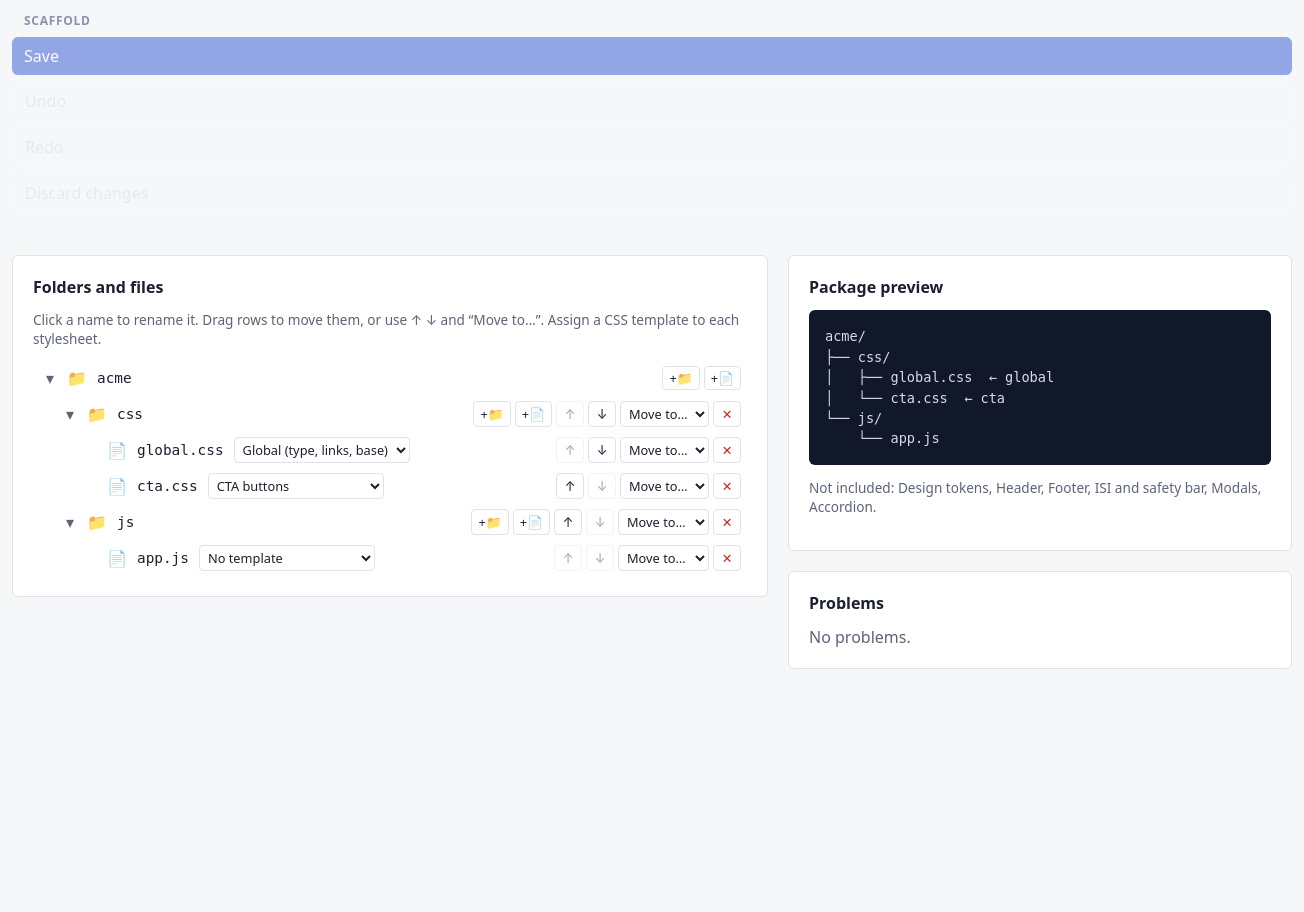
ScaffoldEditor › Escape cancels a rename
The width and height of the screenshot is (1304, 912).
Click the button with aria-label "Rename cta.css": [167, 486] box [133, 476, 202, 496]
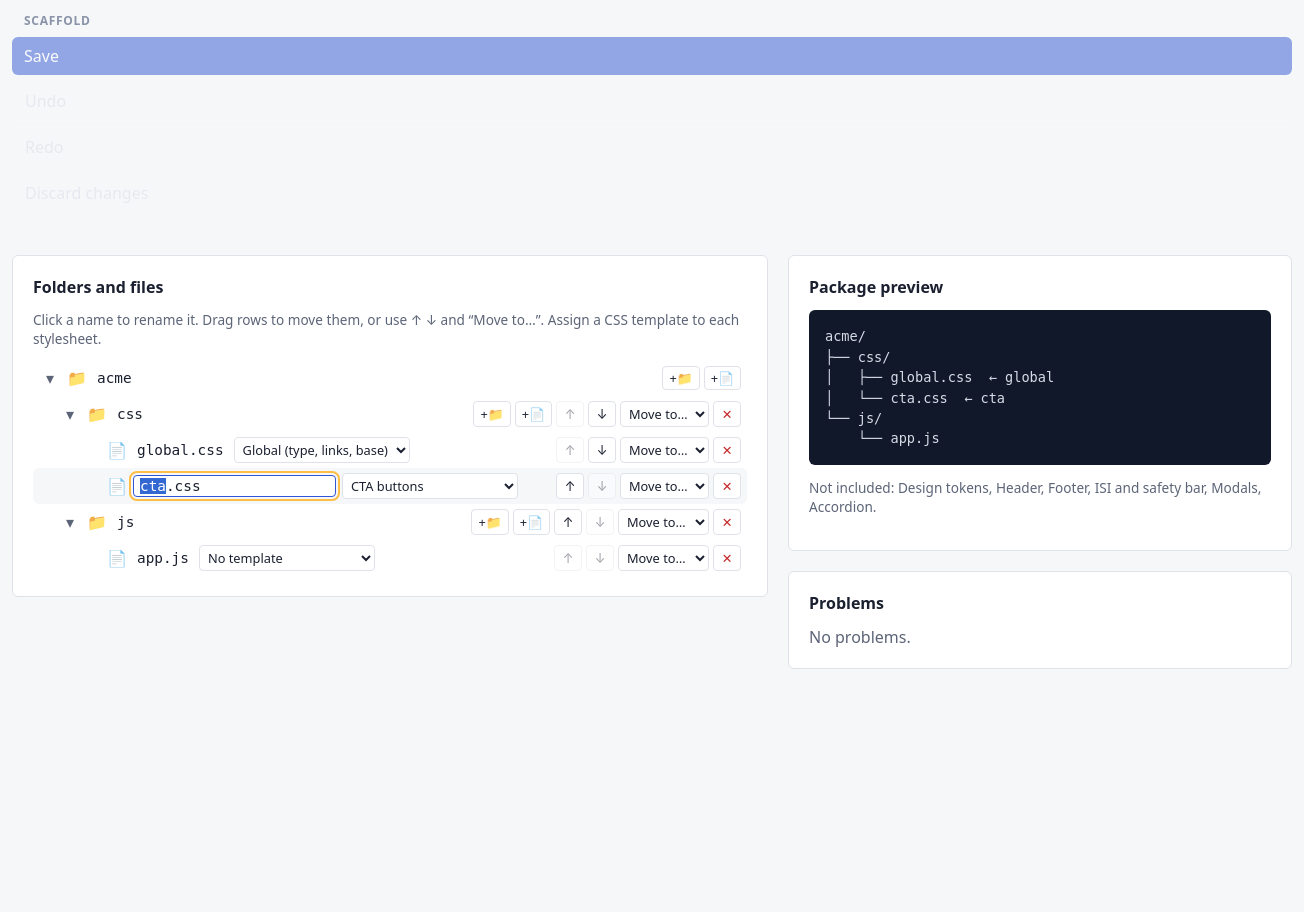
Replace the text in the field named "New name for cta.css" with "x.css": [234, 486] box [133, 475, 336, 497]
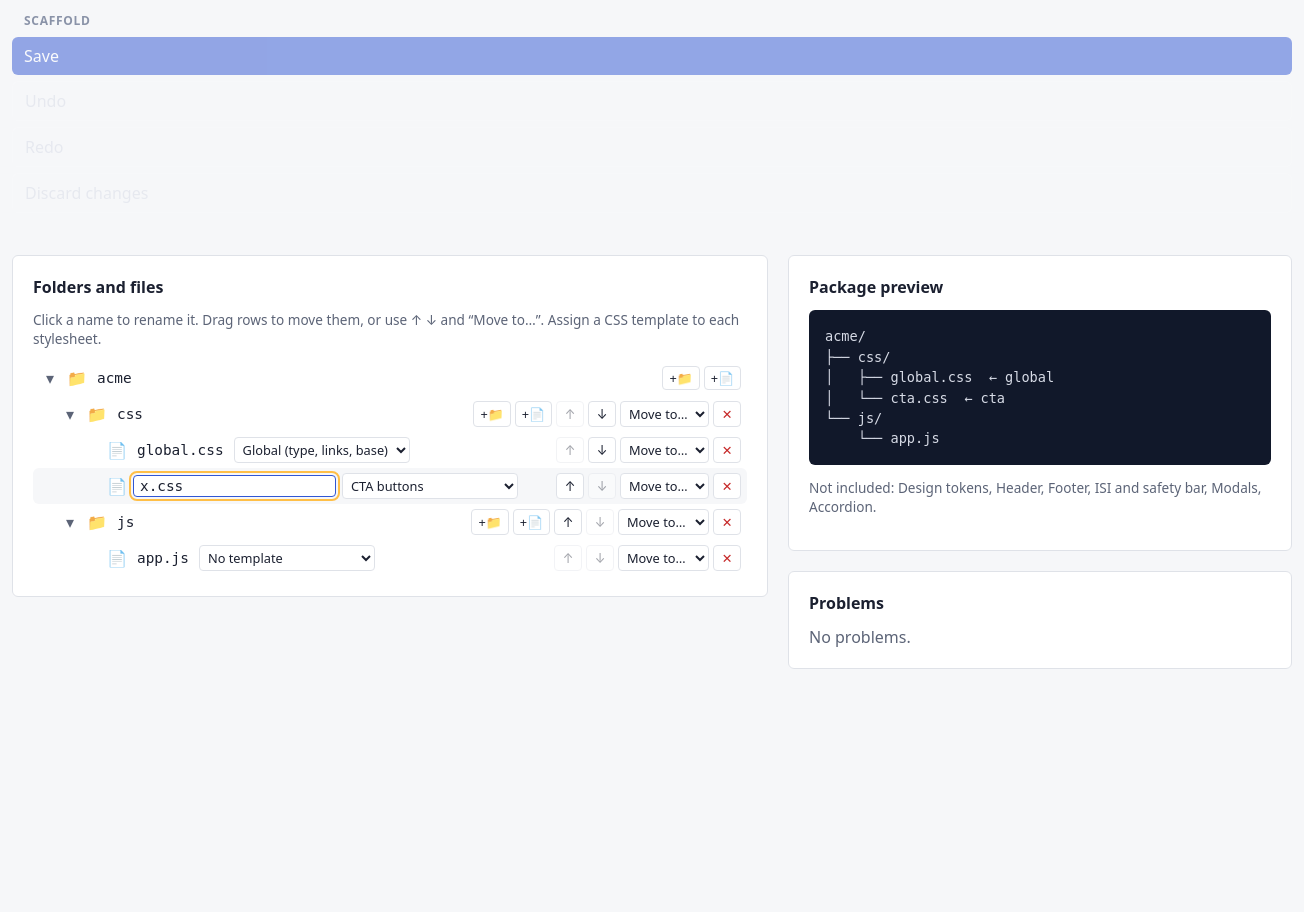
Press Escape in the field named "New name for cta.css", box [133, 475, 336, 497]
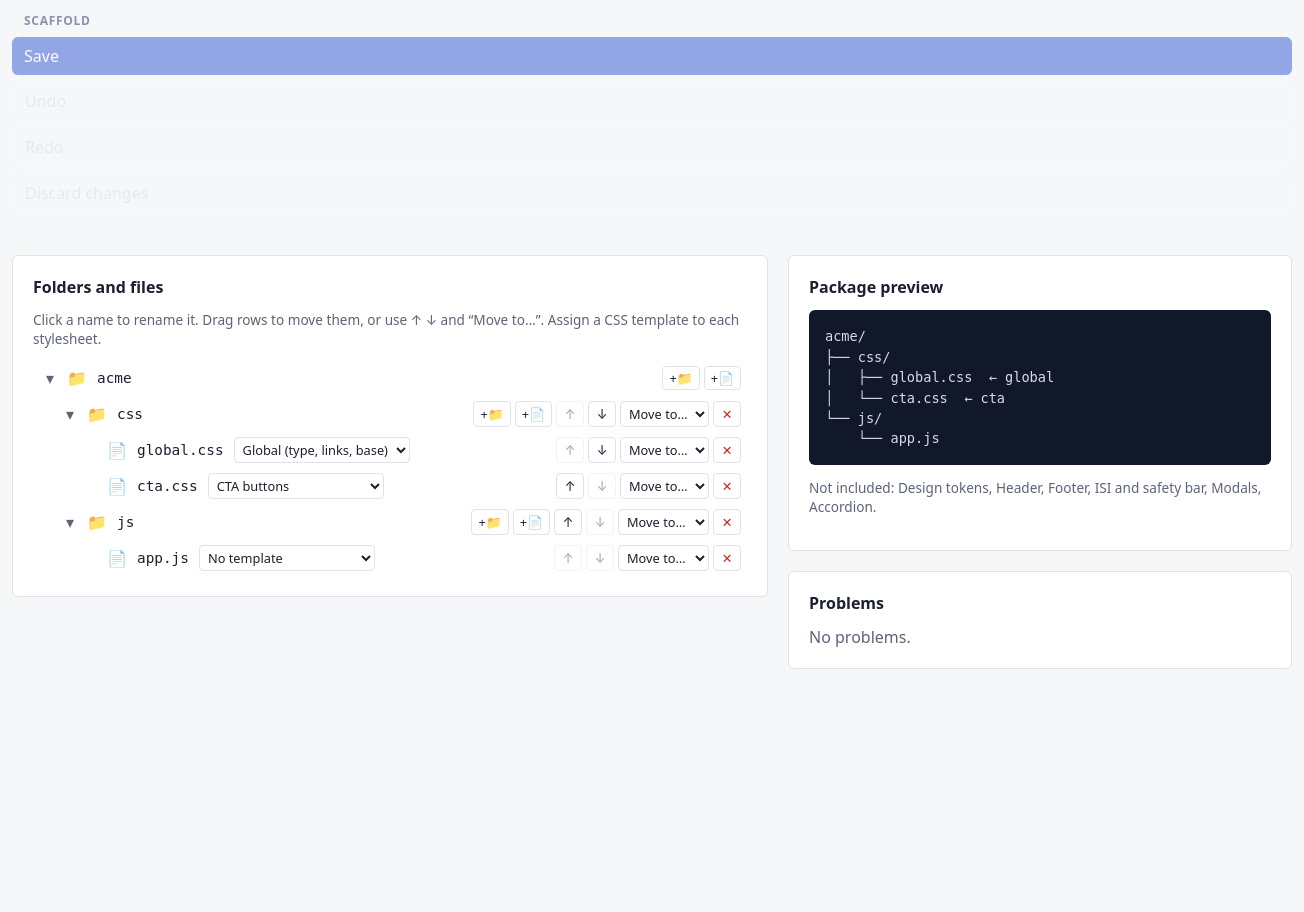
Expected: the button with aria-label "Rename cta.css" is shown, [133, 476, 202, 496]
